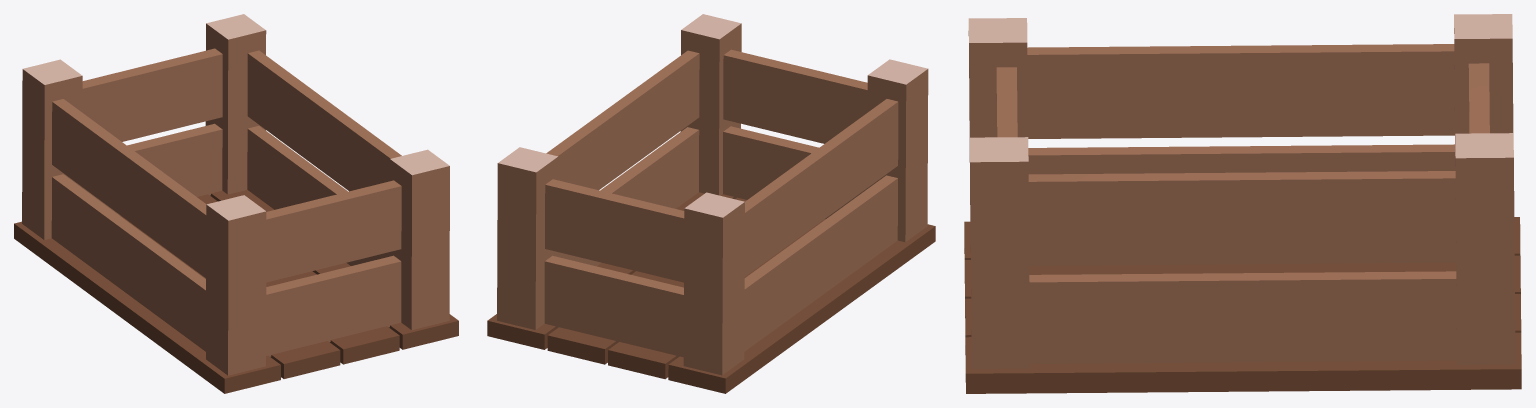
The model's file is caixa_madeira_baixa_pacote.glb.
3 views of the same model, side by side, from view 1: azimuth 30°, elevation 25°; view 2: azimuth 150°, elevation 25°; view 3: azimuth 270°, elevation 25° (orthographic). The views are drawn at different scales.
Visible parts, largest first — view 1: caixa_madeira_baixa_pacote; view 2: caixa_madeira_baixa_pacote; view 3: caixa_madeira_baixa_pacote.
Boxes of the visible parts, x1,y1,x2,y2 form: caixa_madeira_baixa_pacote: (14,14,458,393); caixa_madeira_baixa_pacote: (487,14,935,393); caixa_madeira_baixa_pacote: (964,14,1521,393).
Bounding box in the file's own units: 0.49 × 0.3437 × 0.7522.
Materials: 1 (1 with a texture image).
